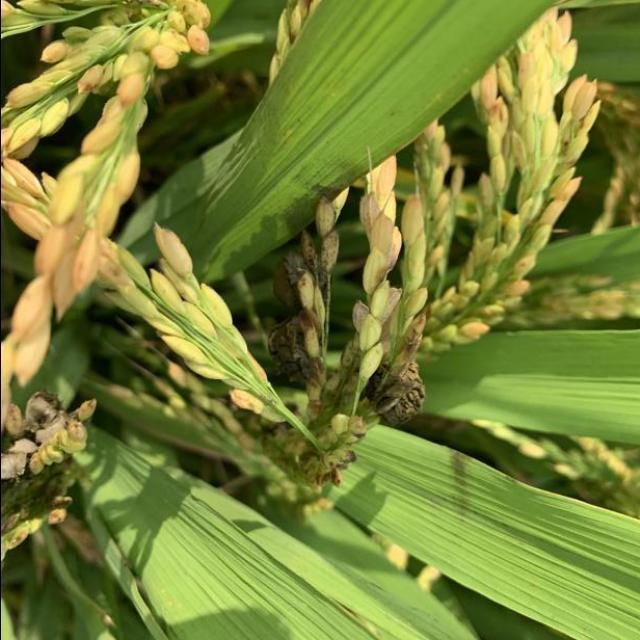Leaf_Scald: (265, 244, 328, 386), (0, 388, 74, 482), (358, 348, 426, 432)
